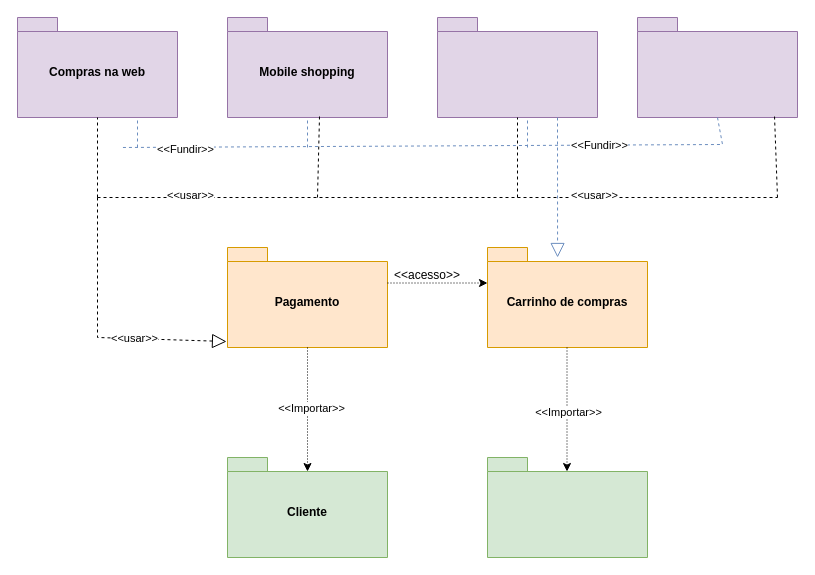
Some shapes in this 815 by 575 pixel diagram are drawn without their labels. Here are the shapes that lost their labels. From the top down, the centre of each, then its label:
At point (517, 67): "Compra de telefone".
At point (717, 67): "Mail shopping".
At point (567, 507): "Inventário".
